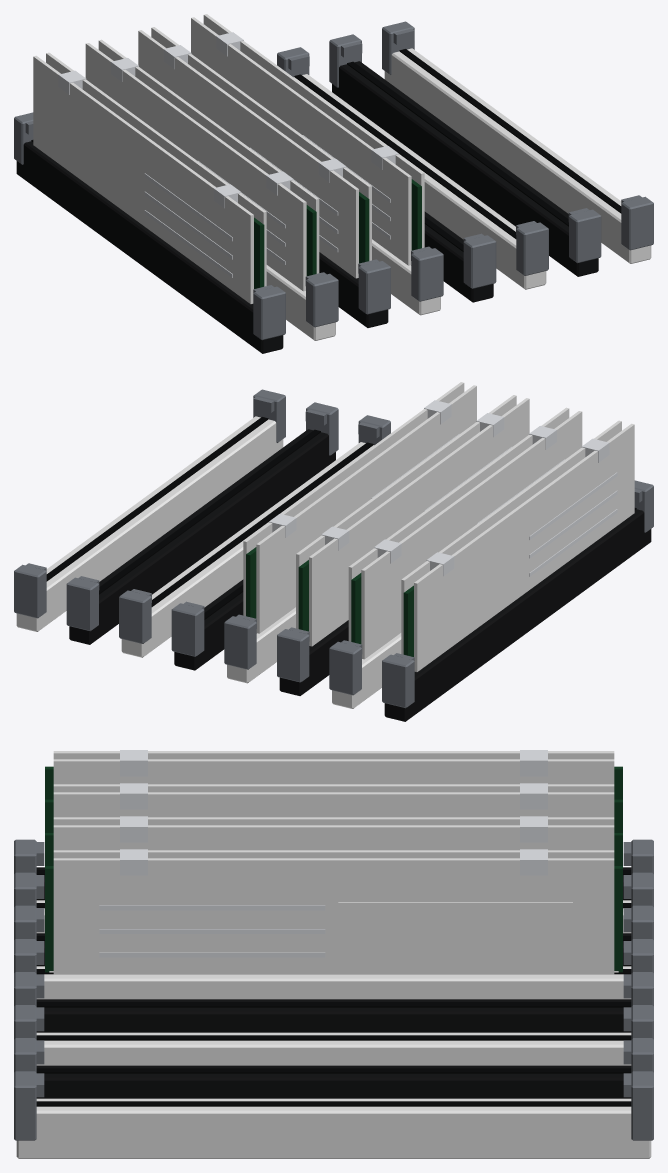
The model's file is asm_ram_t1.glb.
3 renders of one model, top to bottom at view 1: azimuth 30°, elevation 25°; view 2: azimuth 150°, elevation 25°; view 3: azimuth 270°, elevation 25°, orthographic. The views are drawn at different scales.
Parts seen in each view (by area): view 1: Slots, Stick_0, Stick_1, Stick_2, Stick_3, Latch_4_1, Latch_1_1, Latch_6_1, Latch_2_1, Latch_3_1, Latch_7_1, Latch_0_1 (+5 smaller); view 2: Slots, Stick_0, Stick_1, Stick_2, Stick_3, Latch_4_0, Latch_1_0, Latch_6_0, Latch_2_0, Latch_3_0, Latch_7_0, Latch_0_0 (+5 smaller); view 3: Slots, Stick_3, Stick_0, Stick_1, Stick_2, Latch_7_0, Latch_7_1, Latch_6_0, Latch_6_1, Latch_0_0, Latch_0_1, Latch_1_0 (+9 smaller).
Boxes of the visible parts, x1,y1,x2,y2 form: Slots: (16, 48, 651, 353); Stick_0: (33, 52, 266, 303); Stick_1: (85, 39, 319, 291); Stick_2: (138, 27, 371, 278); Stick_3: (191, 14, 424, 265); Latch_4_1: (463, 233, 496, 288); Latch_1_1: (305, 272, 338, 327); Latch_6_1: (568, 208, 601, 263); Latch_2_1: (358, 259, 390, 314); Latch_3_1: (411, 246, 443, 301); Latch_7_1: (621, 195, 653, 250); Latch_0_1: (253, 285, 285, 340); Slots: (16, 416, 651, 721); Stick_0: (401, 420, 634, 671); Stick_1: (348, 407, 582, 659); Stick_2: (296, 395, 529, 646); Stick_3: (243, 382, 476, 633); Latch_4_0: (171, 601, 204, 656); Latch_1_0: (329, 640, 362, 695); Latch_6_0: (66, 576, 99, 631); Latch_2_0: (277, 627, 309, 682); Latch_3_0: (224, 614, 256, 669); Latch_7_0: (14, 563, 46, 618); Latch_0_0: (382, 653, 414, 708); Slots: (16, 867, 651, 1158); Stick_3: (45, 849, 622, 974); Stick_0: (45, 750, 622, 799); Stick_1: (45, 783, 622, 832); Stick_2: (45, 816, 622, 865); Latch_7_0: (623, 1071, 653, 1140); Latch_7_1: (14, 1071, 44, 1140); Latch_6_0: (623, 1038, 653, 1072); Latch_6_1: (14, 1038, 44, 1072); Latch_0_0: (623, 839, 653, 873); Latch_0_1: (14, 839, 44, 873); Latch_1_0: (623, 872, 653, 906).
Bounding box in the file's own units: 0.1346 × 0.0421 × 0.1472.
